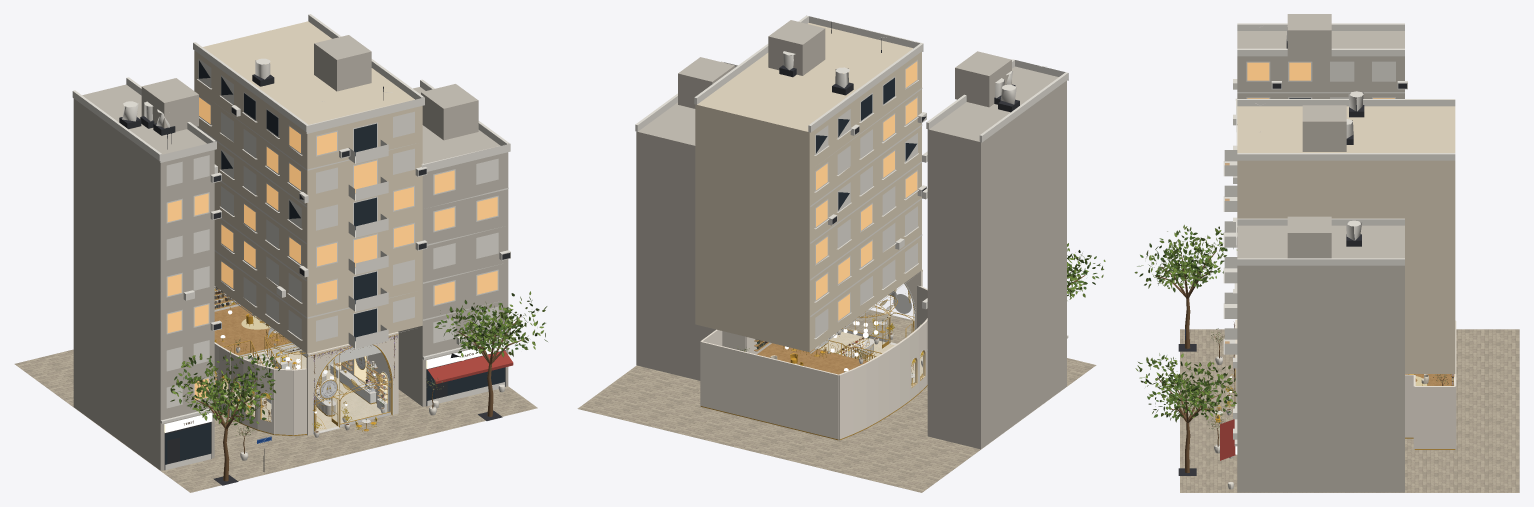
File: flagship_lod2.glb
3 renders of one model, left to right at view 1: azimuth 30°, elevation 25°; view 2: azimuth 150°, elevation 25°; view 3: azimuth 270°, elevation 25°, orthographic. The views are drawn at different scales.
Visible parts, largest first — view 1: bw3, facade_hi, bwtrim, paving, win_lit_n, win, plaster, leaf, gold, leaf2, iron, plaster_w (+7 smaller); view 2: bw3, facade_hi, paving, plaster, bwtrim, win_lit_n, gold, floor_wood, win, terrazzo, iron, plaster_w (+1 smaller); view 3: bw3, facade_hi, paving, bwtrim, leaf, plaster, leaf2, trunk, win_lit_n, iron, aw_r.
Boxes of the visible parts, x1,y1,x2,y2 form: bw3: (73,35,508,470); facade_hi: (194,21,422,353); bwtrim: (72,14,510,470); paving: (14,349,537,492); win_lit_n: (167,97,497,400); win: (165,60,504,464); plaster: (214,286,390,435); leaf: (170,291,547,429); gold: (214,289,398,435); leaf2: (174,293,547,425); iron: (119,74,510,485); plaster_w: (216,327,393,434); bw3: (636,20,1066,449); facade_hi: (695,23,921,352); paving: (577,309,1096,492); plaster: (700,285,927,439); bwtrim: (635,15,1068,353); win_lit_n: (816,61,917,320); gold: (700,285,927,440); floor_wood: (757,343,867,374); win: (816,77,916,210); terrazzo: (819,331,922,383); iron: (779,22,1019,224); plaster_w: (818,283,927,388); bw3: (1237,14,1404,492); facade_hi: (1237,106,1455,373); paving: (1180,329,1519,492); bwtrim: (1223,23,1455,446); leaf: (1134,225,1237,422); plaster: (1405,321,1456,449); leaf2: (1137,230,1235,418); trunk: (1154,250,1445,473); win_lit_n: (1247,62,1394,98); iron: (1178,41,1406,475); aw_r: (1220,419,1235,460).
Bounding box in the file's own units: 31.27 × 28.19 × 29.9.
Materials: 71 (21 with a texture image).
